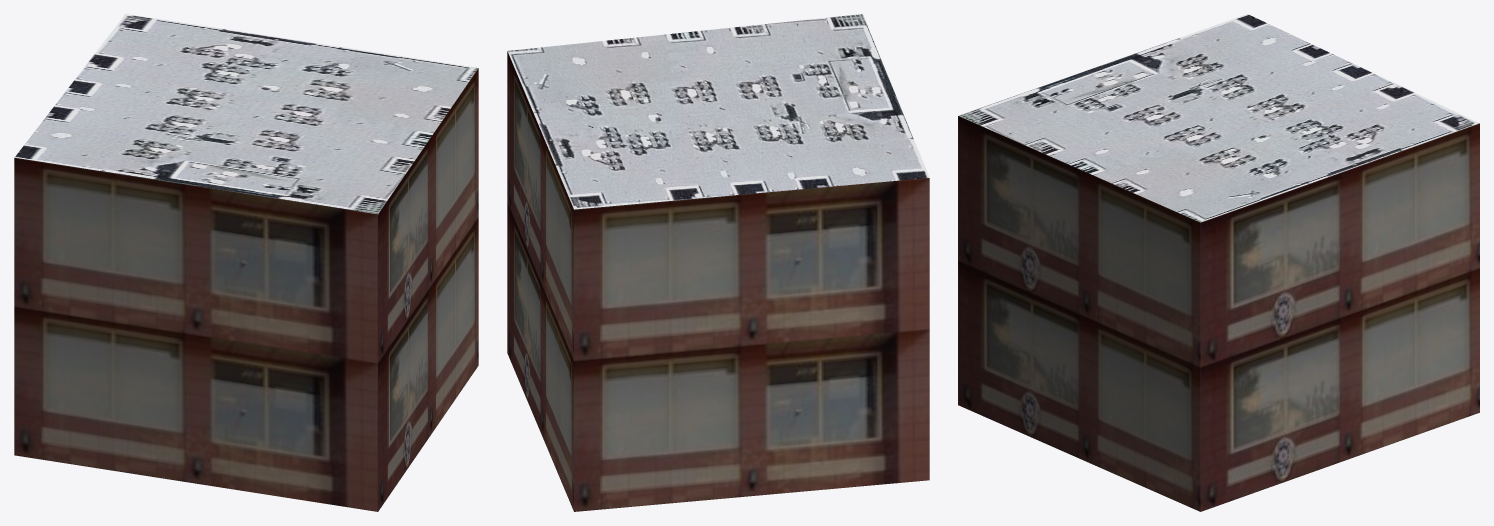
File: ResTex__1466.fbx
3 views of the same model, side by side, from view 1: azimuth 30°, elevation 25°; view 2: azimuth 150°, elevation 25°; view 3: azimuth 270°, elevation 25° (orthographic). The views are drawn at different scales.
Visible parts, largest first — view 1: CityEngineMaterial_13_m, CityEngineMaterial_8_m; view 2: CityEngineMaterial_13_m, CityEngineMaterial_8_m; view 3: CityEngineMaterial_13_m, CityEngineMaterial_8_m.
Boxes of the visible parts, bbox=[...] form: CityEngineMaterial_13_m: bbox=[14, 68, 478, 511]; CityEngineMaterial_8_m: bbox=[15, 14, 478, 214]; CityEngineMaterial_13_m: bbox=[507, 51, 929, 511]; CityEngineMaterial_8_m: bbox=[507, 14, 929, 209]; CityEngineMaterial_13_m: bbox=[958, 116, 1479, 511]; CityEngineMaterial_8_m: bbox=[958, 14, 1479, 222].
Size of the model in its own units: 9.28 by 6 by 9.8.
2 materials, 2 textured.
